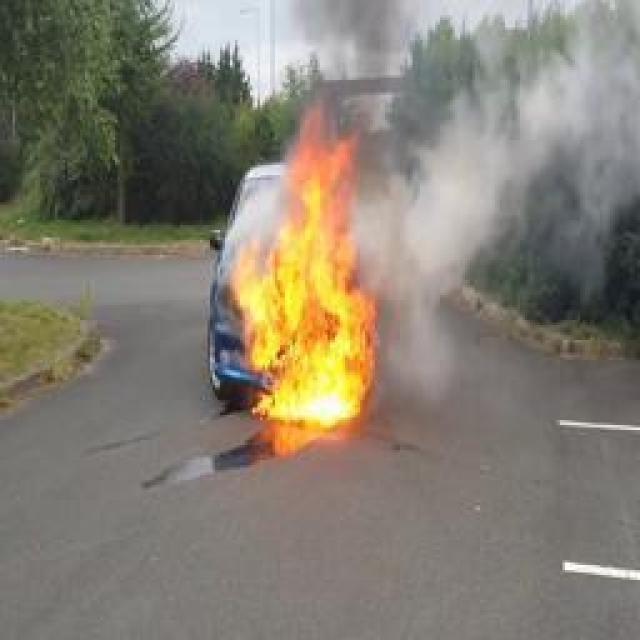fire: (228, 115, 389, 448)
smoke: (397, 22, 640, 368)
